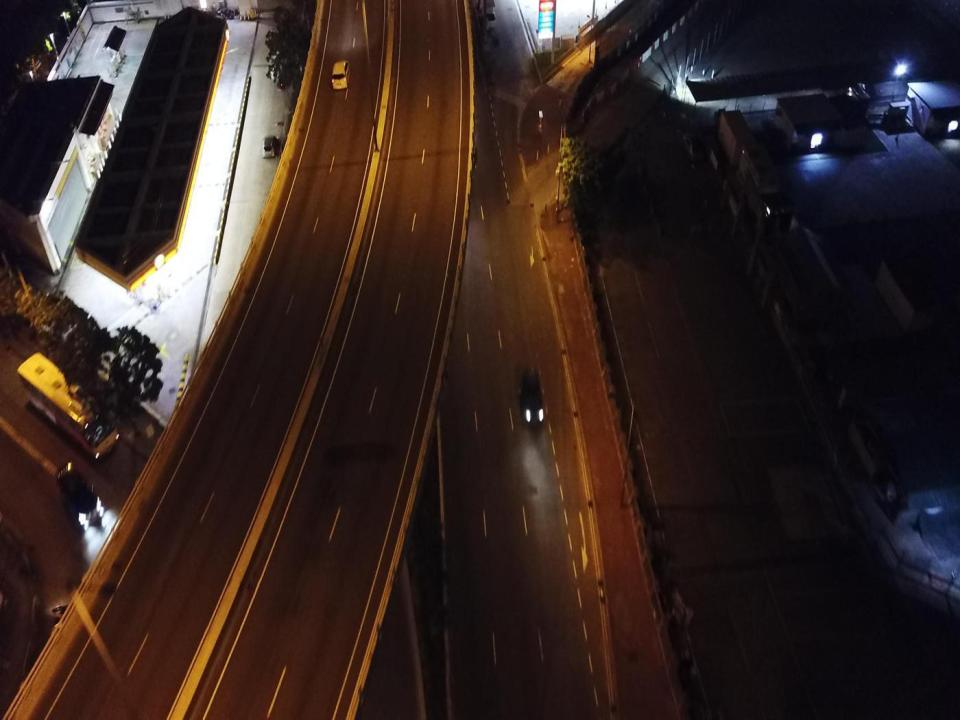bus: (19, 352, 120, 462)
car: (58, 465, 102, 528), (521, 373, 543, 426), (682, 132, 704, 162), (332, 61, 350, 90), (262, 134, 278, 157)
truck: (484, 0, 497, 29)
